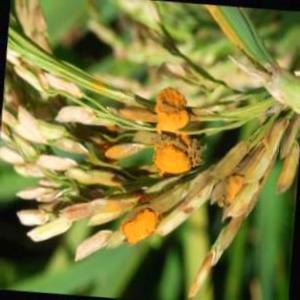Leaf_Scald: (149, 90, 195, 180), (118, 205, 158, 249), (216, 171, 246, 207), (121, 96, 157, 126), (104, 143, 135, 176)
